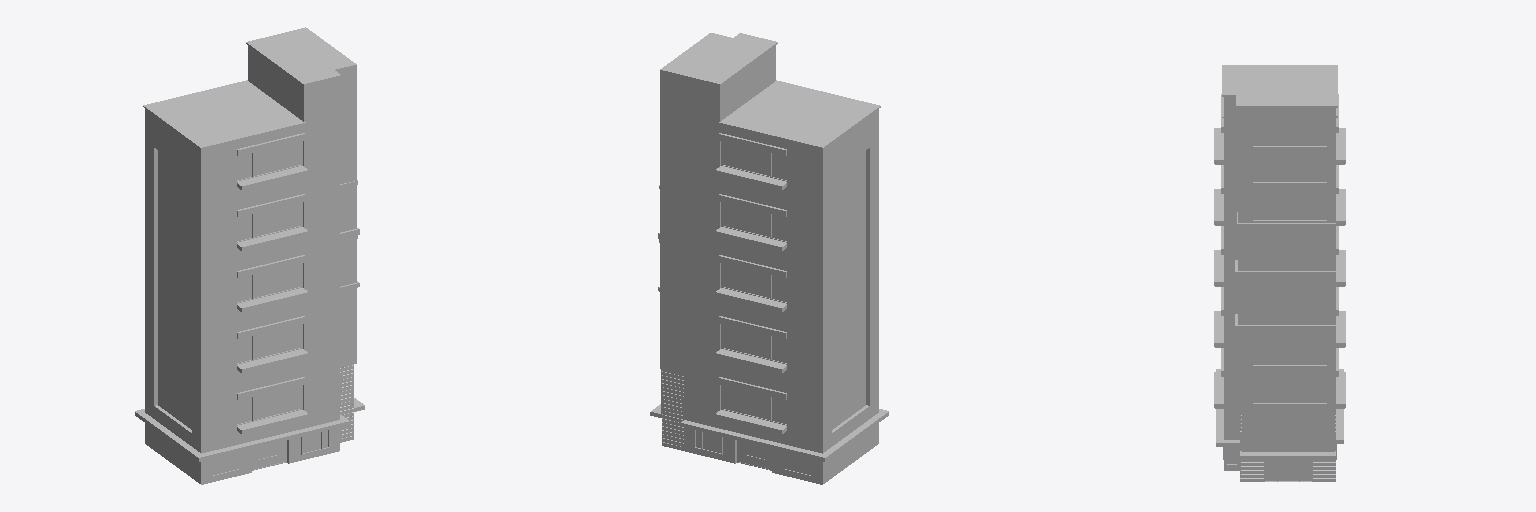
File: building2.obj
The picture shows the model from 3 angles: view 1: azimuth 30°, elevation 25°; view 2: azimuth 150°, elevation 25°; view 3: azimuth 270°, elevation 25°; orthographic projection.
Visible parts, largest first — view 1: Stylised_low_poly_building_pixel_texture, Cube.054_glass_5, Cube.054_pixel_texture; view 2: Stylised_low_poly_building_pixel_texture, Cube.054_glass_5, Cube.054_pixel_texture; view 3: Stylised_low_poly_building_pixel_texture, Cube.054_glass_5, Cube.054_pixel_texture.
Boxes of the visible parts, x1=… form: Stylised_low_poly_building_pixel_texture: x1=135, y1=27, x2=364, y2=484; Cube.054_glass_5: x1=158, y1=141, x2=356, y2=474; Cube.054_pixel_texture: x1=158, y1=141, x2=356, y2=476; Stylised_low_poly_building_pixel_texture: x1=650, y1=33, x2=888, y2=484; Cube.054_glass_5: x1=696, y1=141, x2=865, y2=474; Cube.054_pixel_texture: x1=661, y1=141, x2=865, y2=476; Stylised_low_poly_building_pixel_texture: x1=1214, y1=65, x2=1345, y2=481; Cube.054_glass_5: x1=1227, y1=151, x2=1335, y2=480; Cube.054_pixel_texture: x1=1223, y1=151, x2=1336, y2=481.
Bounding box in the file's own units: 17.06 × 34.31 × 10.92.